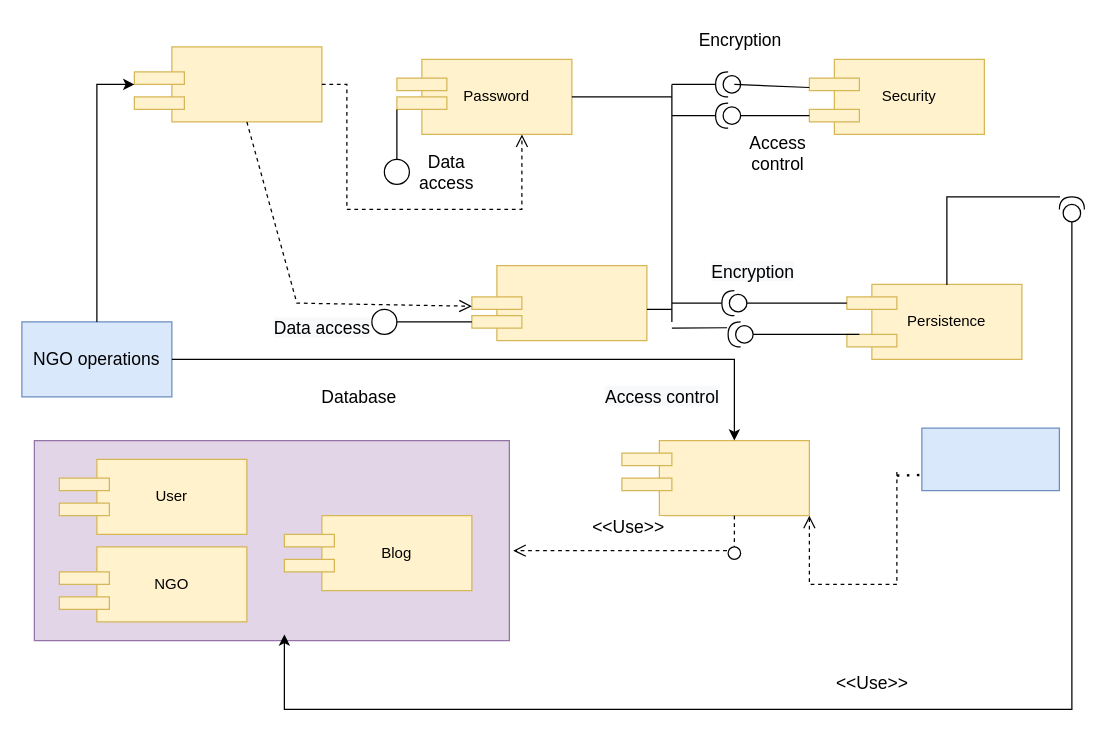
Some shapes in this 1106 by 741 pixel diagram are drawn without their labels. The box of each missing label's shape, as (x1, y1, x2, y2) in pixels:
Email: (496, 264, 647, 341)
Login and authentication: (171, 46, 322, 122)
NGO donation application server: (658, 439, 809, 516)
User interface: (921, 427, 1059, 491)
